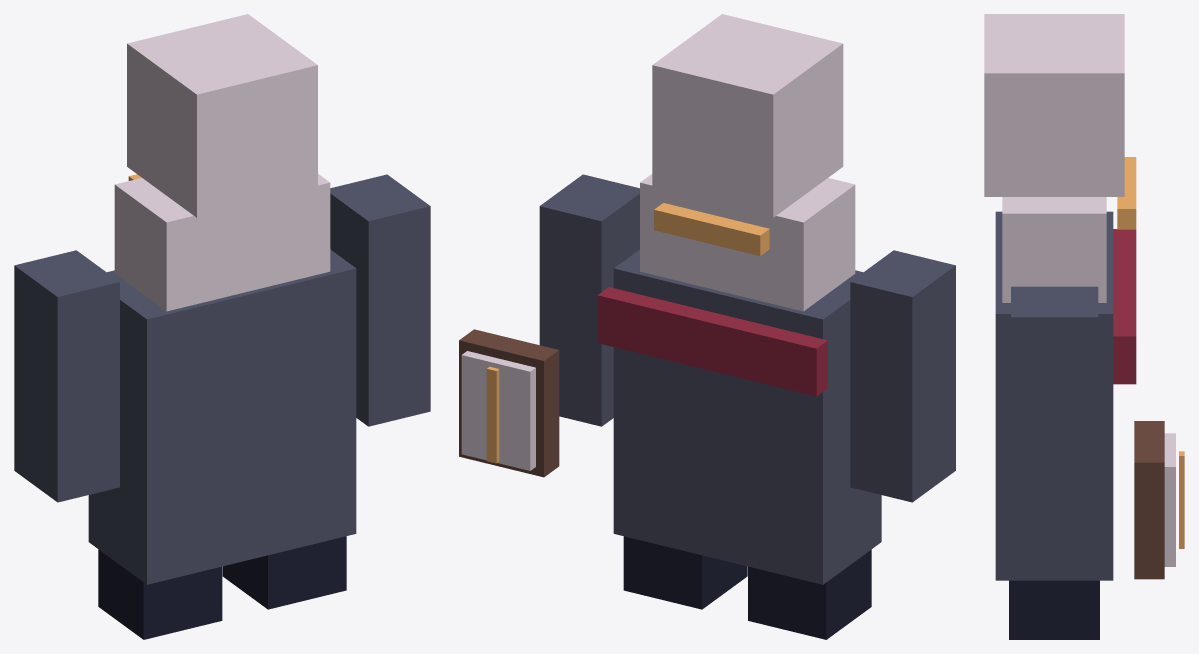
The model's file is npc_KGB_NPC_CityArchivist_STATIC_DRAFT_v02.glb.
3 views of the same model, side by side, from view 1: azimuth 30°, elevation 25°; view 2: azimuth 150°, elevation 25°; view 3: azimuth 270°, elevation 25° (orthographic).
Parts seen in each view (by area): view 1: KGB_NPC_CityArchivist_STATIC_DRAFT_v02; view 2: KGB_NPC_CityArchivist_STATIC_DRAFT_v02; view 3: KGB_NPC_CityArchivist_STATIC_DRAFT_v02.
Part boxes in pixels (<box>): KGB_NPC_CityArchivist_STATIC_DRAFT_v02: <box>14,14,430,639</box>; KGB_NPC_CityArchivist_STATIC_DRAFT_v02: <box>459,14,955,639</box>; KGB_NPC_CityArchivist_STATIC_DRAFT_v02: <box>984,14,1184,639</box>.
Bounding box in the file's own units: 2.57 × 3.18 × 1.06.
